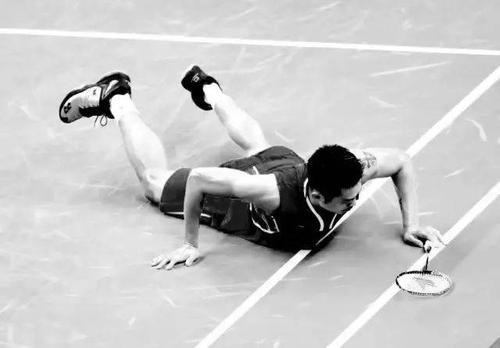down: (53, 50, 457, 279)
